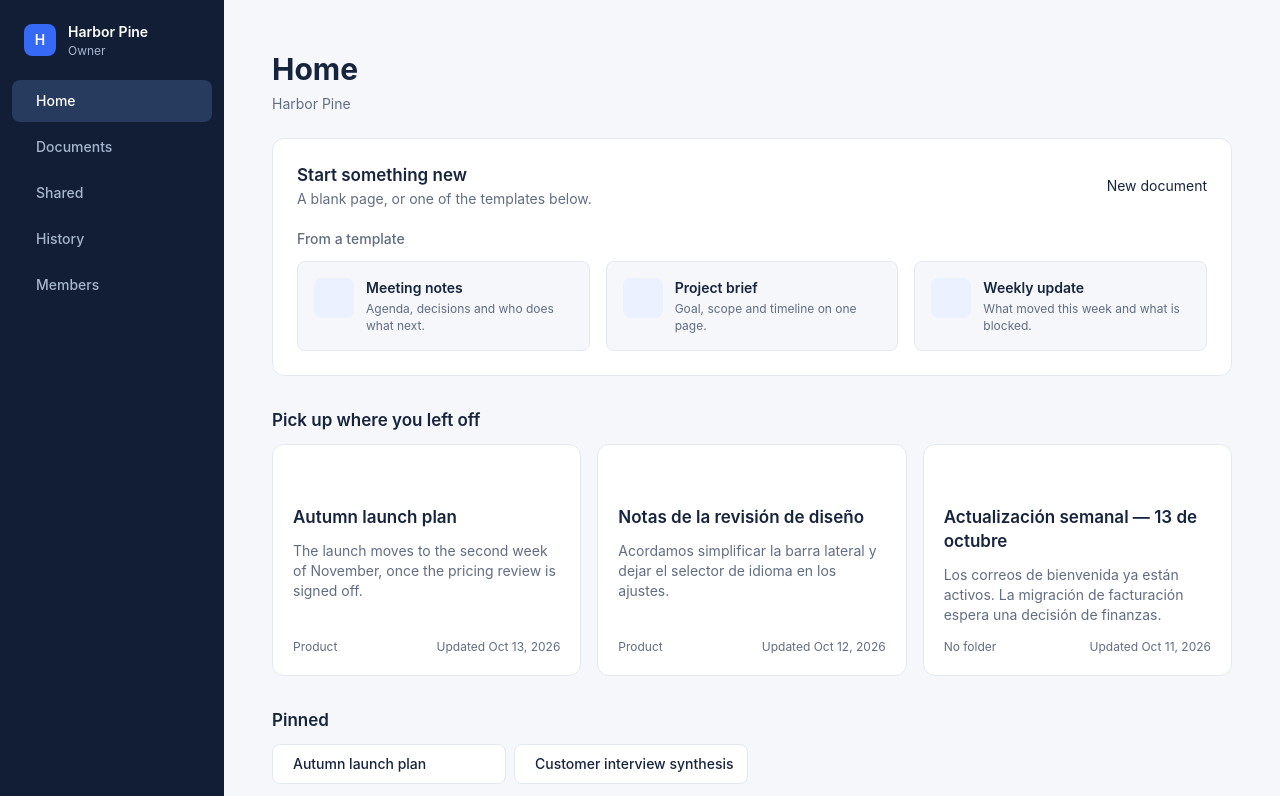
Test: starting a document from Home › says why the document could not be made, next to what was chosen
Expected: the element "Start something new" is shown, [272,138,1232,376]
What coordinates should you click on to do the following:
click the button "Project brief Goal, scope and timeline on one page."
I would click on:
 (752, 306)
Its box is [606,261,898,351].
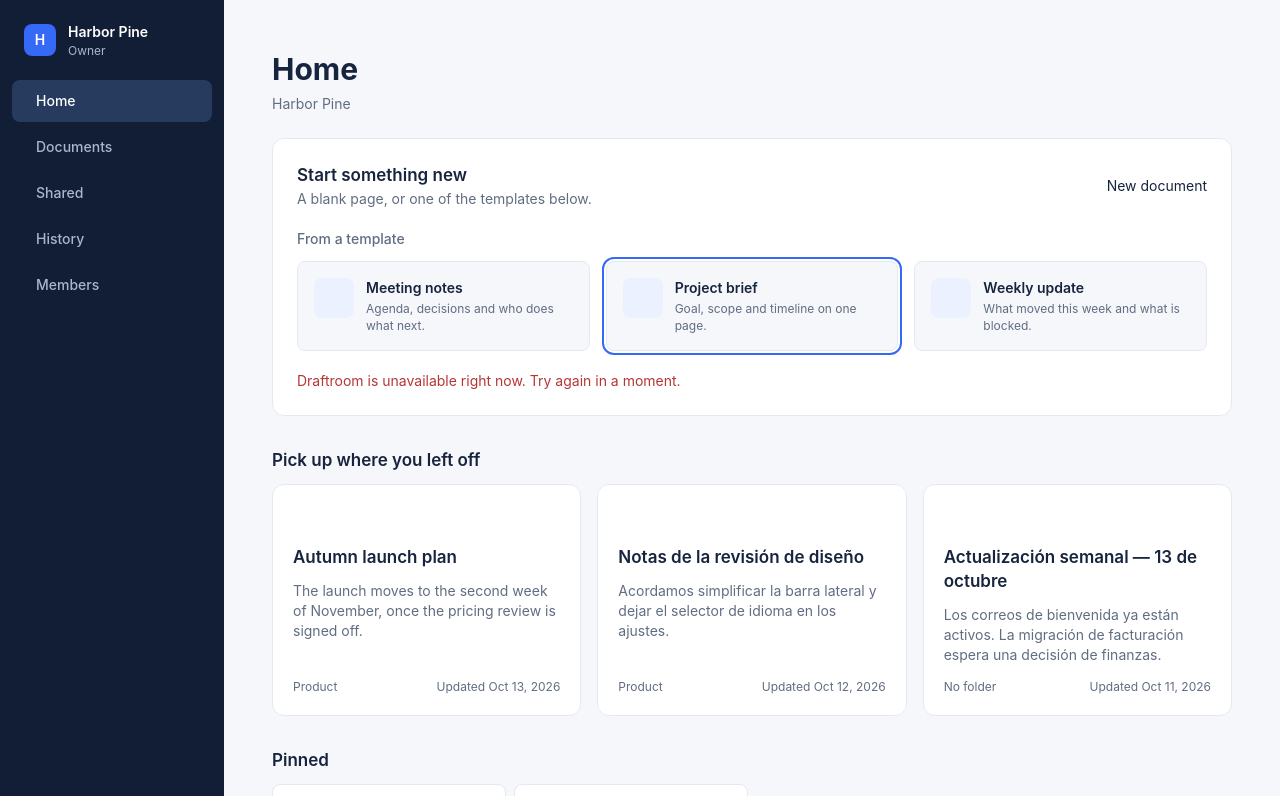
Result: the message "Draftroom is unavailable right now. Try again in a moment." is shown at [297,372,681,389]
